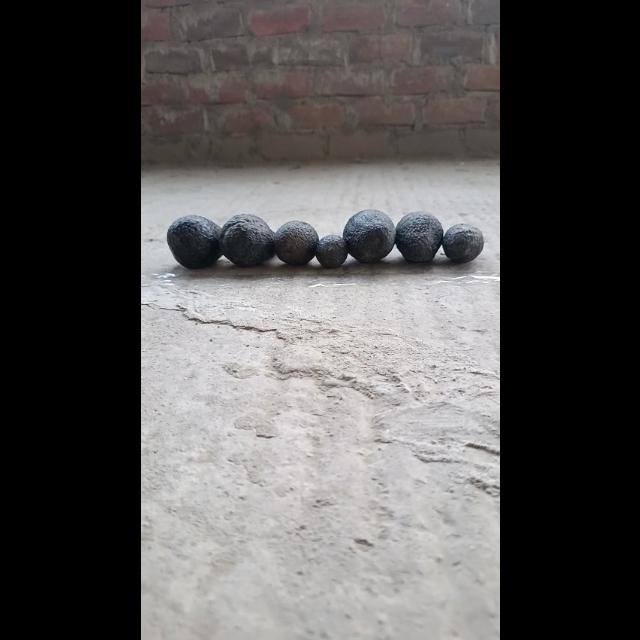Primera: (218, 212, 274, 266), (166, 214, 222, 268), (342, 208, 396, 262), (393, 211, 443, 263)
Segunda: (272, 218, 318, 266), (440, 221, 484, 263)
Tercera: (314, 234, 346, 268)
